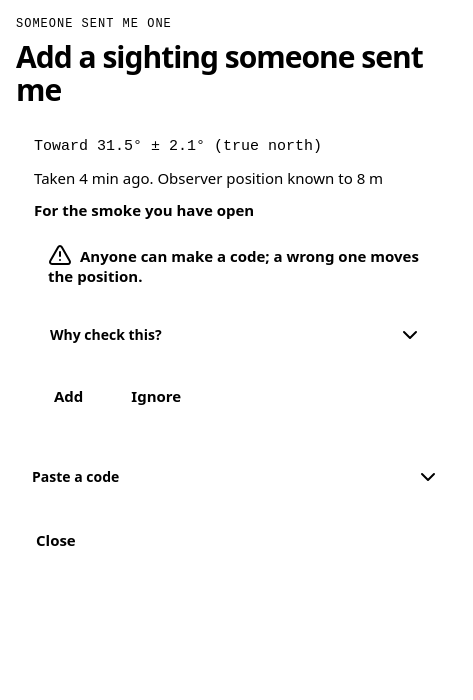
it: a link with a code (Req 10.3) › opens the Inbox sheet over the Smoke screen, the code held and the address replaced
Check: the number of list items with test id "inbox-card" is 1, box [16,118,456,439]
What coordinates should you click on to do the following:
click the button "Close"
I would click on:
 (56, 540)
Its box is [16,515,96,565].
(page scrolled)
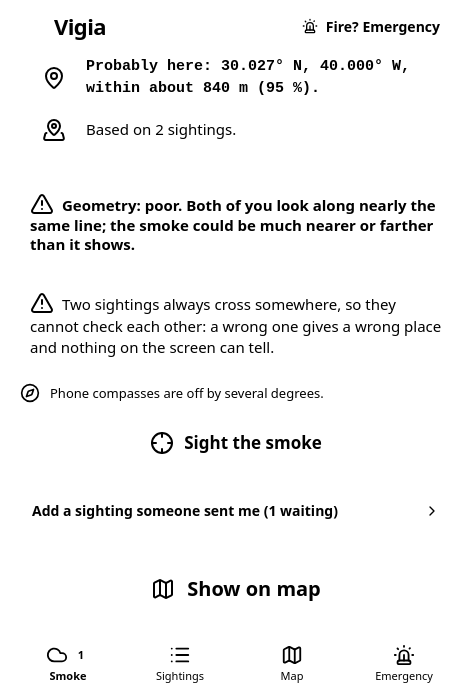
Check: the element with test id "smoke-screen" is shown
